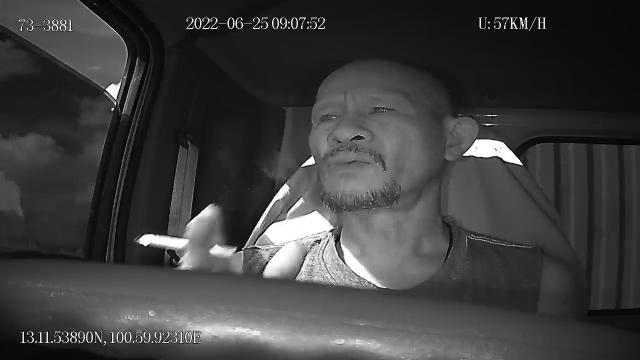SafeDriving: (360, 94, 403, 122), (312, 101, 348, 129)
Smoking: (134, 232, 238, 260)
